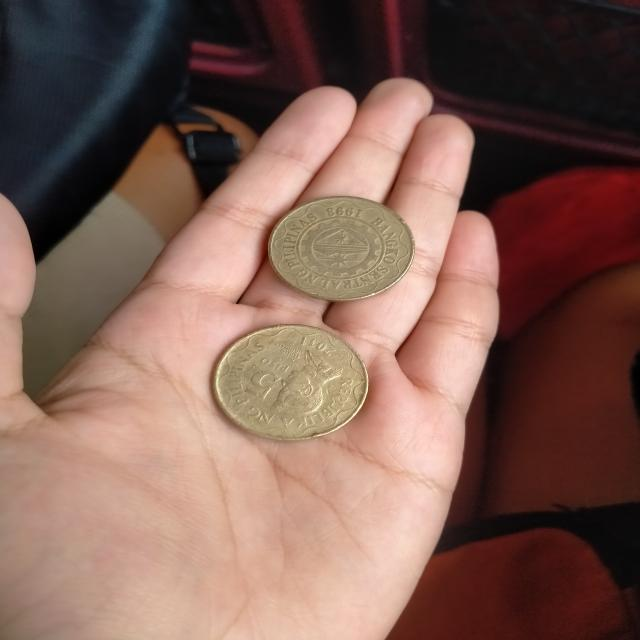5_Old_Back: (268, 192, 416, 306)
5_Old_Front: (238, 353, 294, 407)
